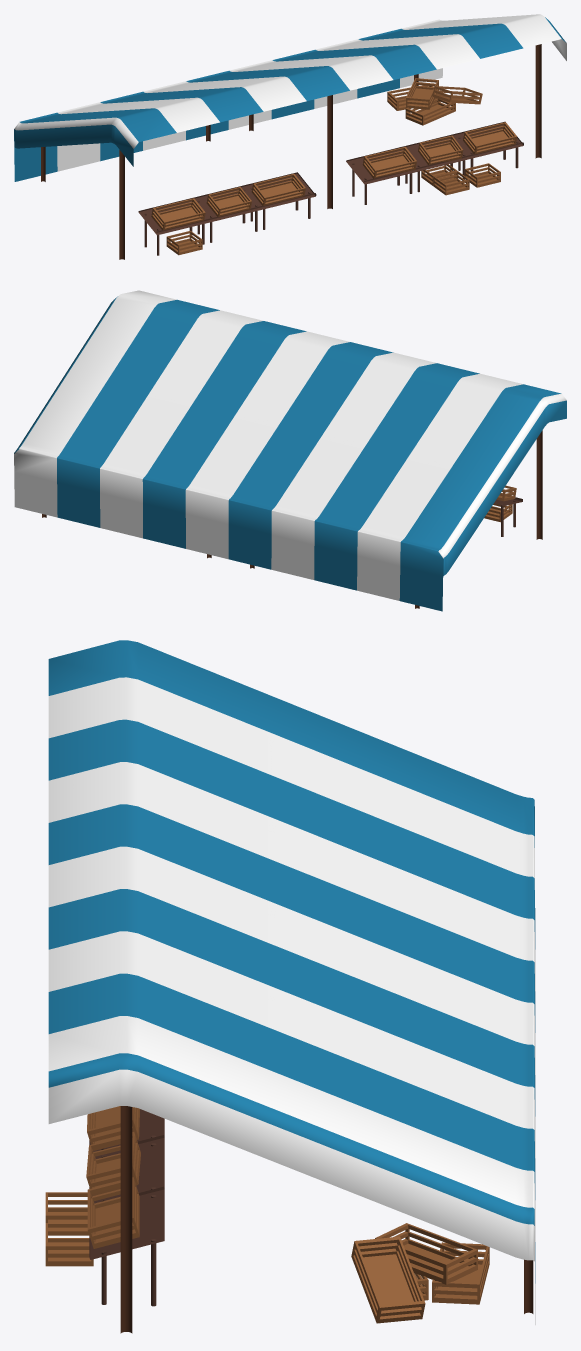
The model's file is stand_c_2.fbx.
3 views of the same model, one above another, from view 1: azimuth 30°, elevation 25°; view 2: azimuth 150°, elevation 25°; view 3: azimuth 270°, elevation 25° (orthographic). The views are drawn at different scales.
Visible parts, largest first — view 1: StandeV2; view 2: StandeV2; view 3: StandeV2.
Part boxes in pixels (<box>): StandeV2: <box>14,14,566,259</box>; StandeV2: <box>14,290,566,611</box>; StandeV2: <box>45,640,535,1333</box>.
Size of the model in its own units: 2512 by 793 by 1227.
